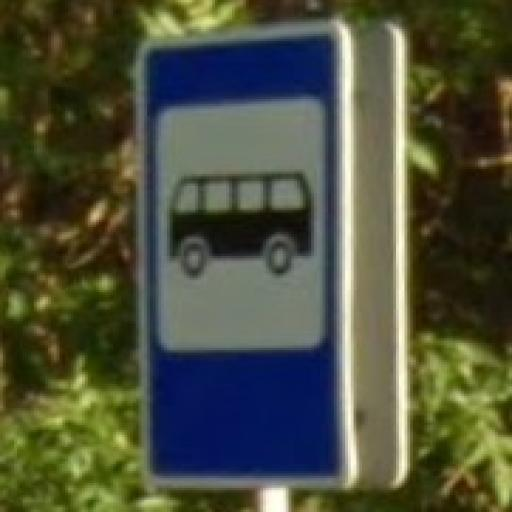traffic_sign: (134, 23, 363, 494)
